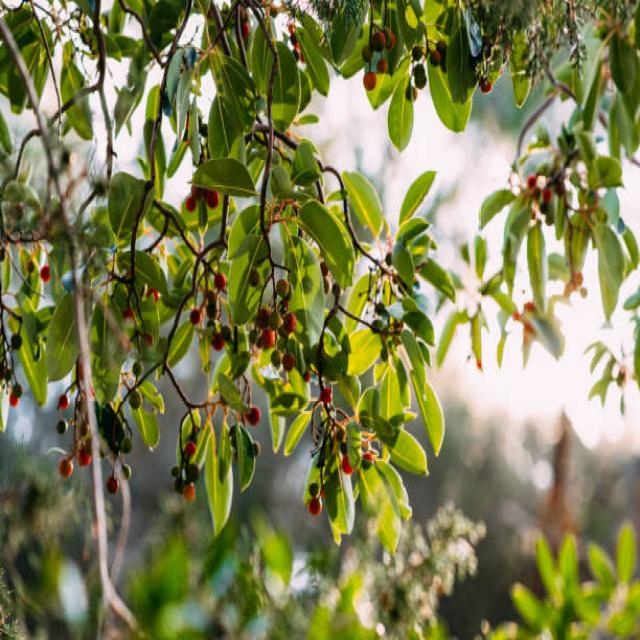Sandalwood: (86, 0, 640, 640), (27, 30, 640, 502), (69, 90, 450, 488)
